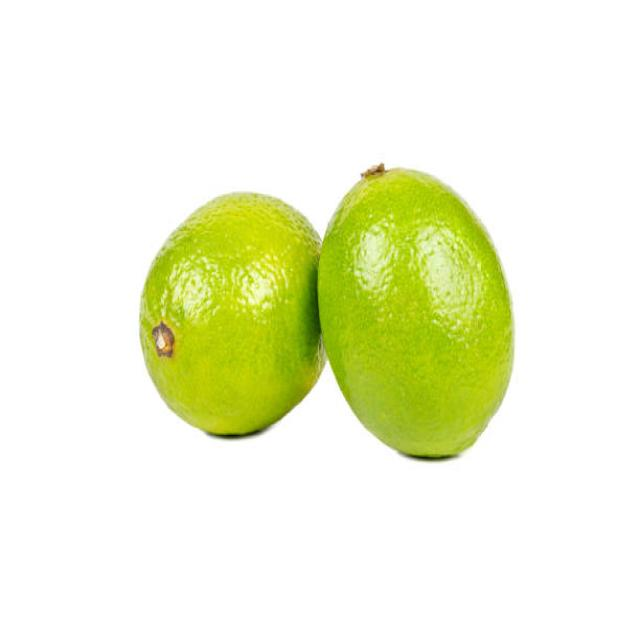Unripe: (317, 166, 515, 460), (138, 191, 332, 440)
